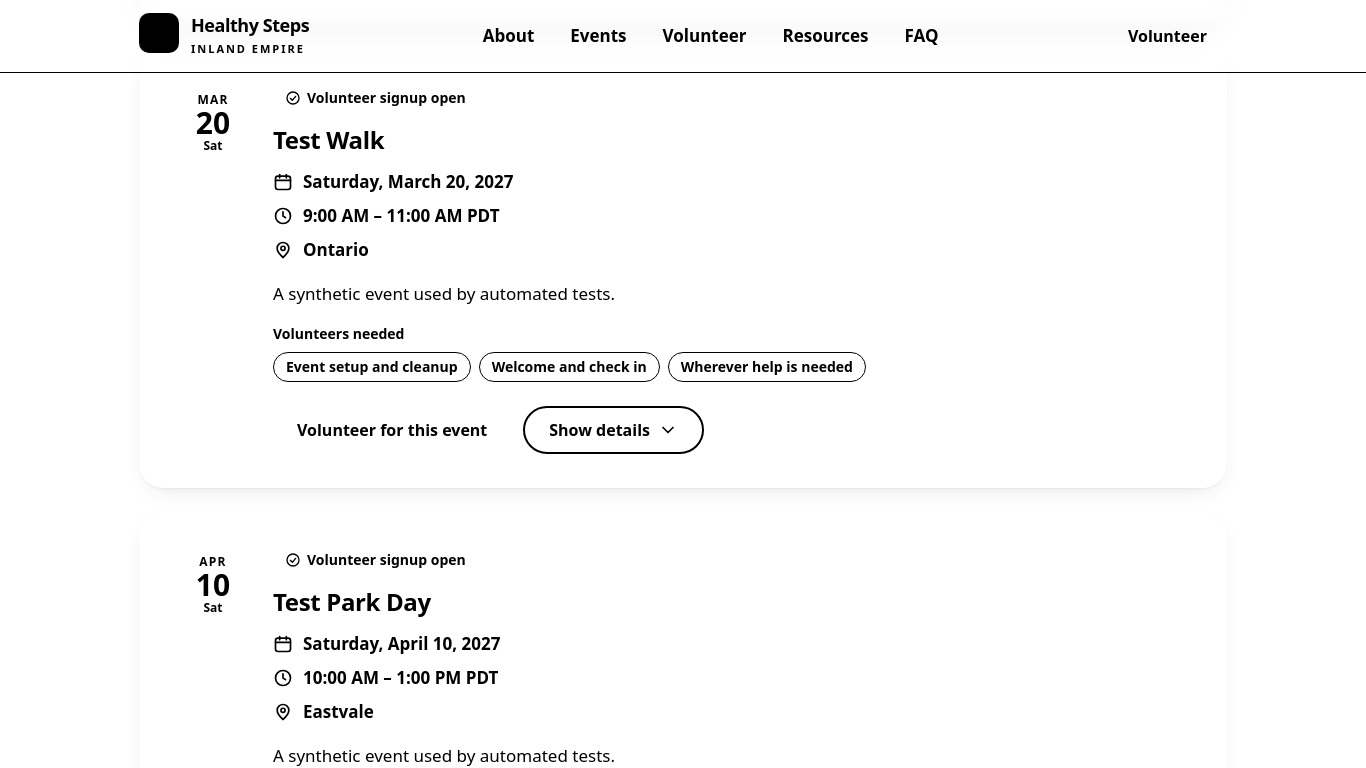
it: events list › reveals location, activities, roles, and shifts when details are opened
(page scrolled)
Click the button "Show details". click: (614, 430)
box: [523,406,704,454]
(page scrolled)
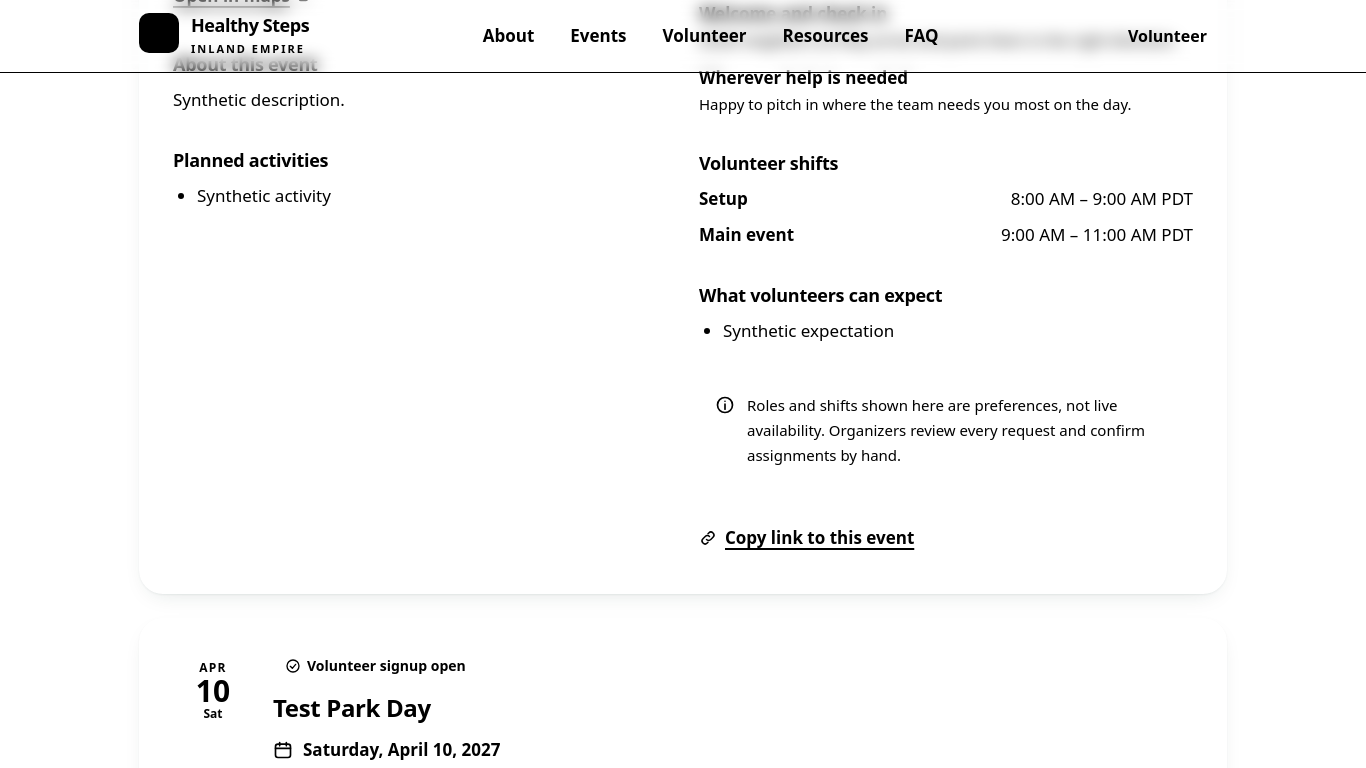
Result: the list item "Synthetic activity" is shown at [197,184,331,207]
Result: the list item "Synthetic expectation" is shown at [723,319,894,342]
Result: the text "8:00 AM – 9:00 AM PDT" is shown at [1011,185,1193,213]
